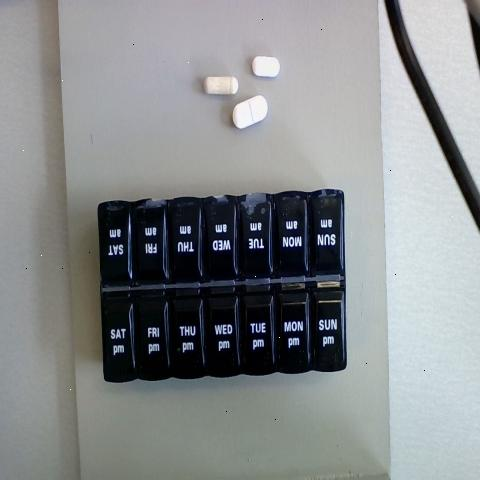FRI-am: (134, 198, 166, 284)
FRI-pm: (133, 286, 172, 375)
MON-am: (274, 192, 309, 274)
MON-pm: (276, 289, 309, 373)
Pill: (225, 95, 280, 133), (196, 64, 243, 101), (246, 44, 286, 87)
PillBox: (84, 164, 364, 401)
SAT-am: (102, 201, 134, 284)
SAT-pm: (105, 289, 133, 379)
SUN-am: (310, 190, 344, 278)
SUN-pm: (313, 286, 346, 370)
THU-am: (170, 200, 204, 281)
THU-pm: (168, 288, 208, 378)
TUE-am: (239, 194, 272, 280)
TUE-pm: (240, 285, 276, 372)
WED-am: (204, 196, 239, 283)
WED-pm: (206, 289, 241, 372)
